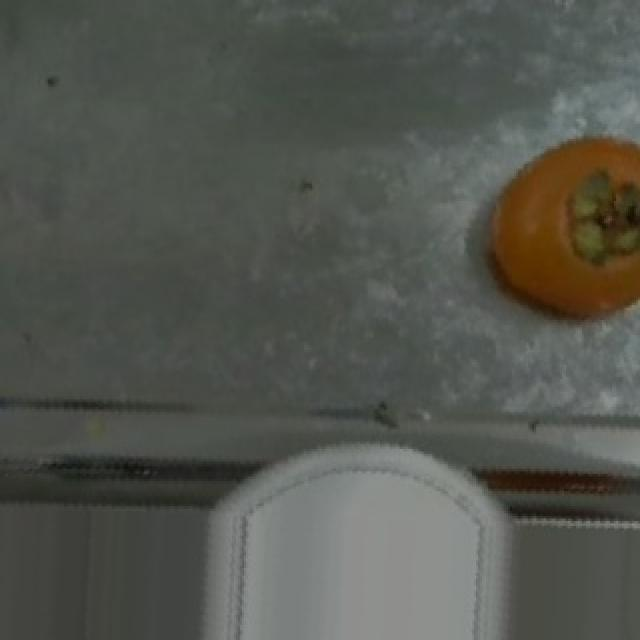Fruit: (464, 114, 638, 342)
